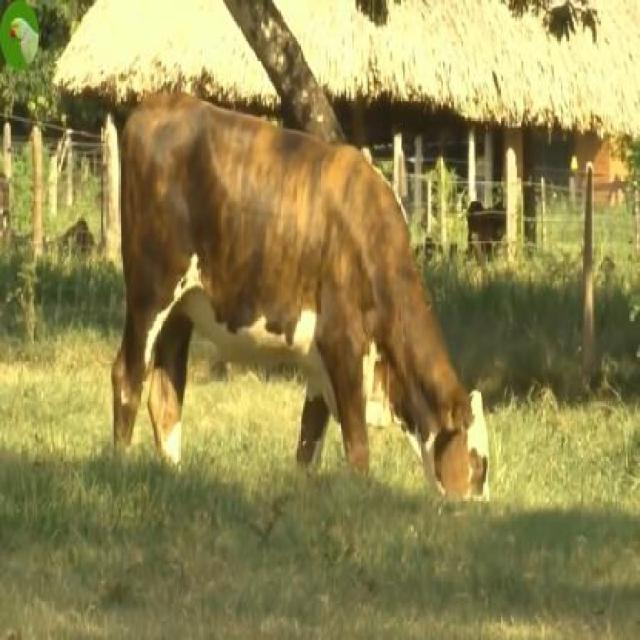Cow: (111, 94, 491, 501)
